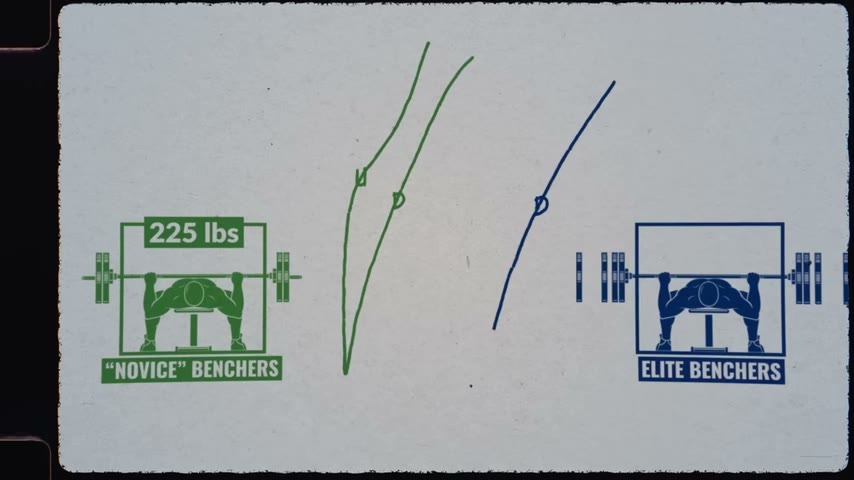barbell_plate_side: (497, 67, 613, 344)
